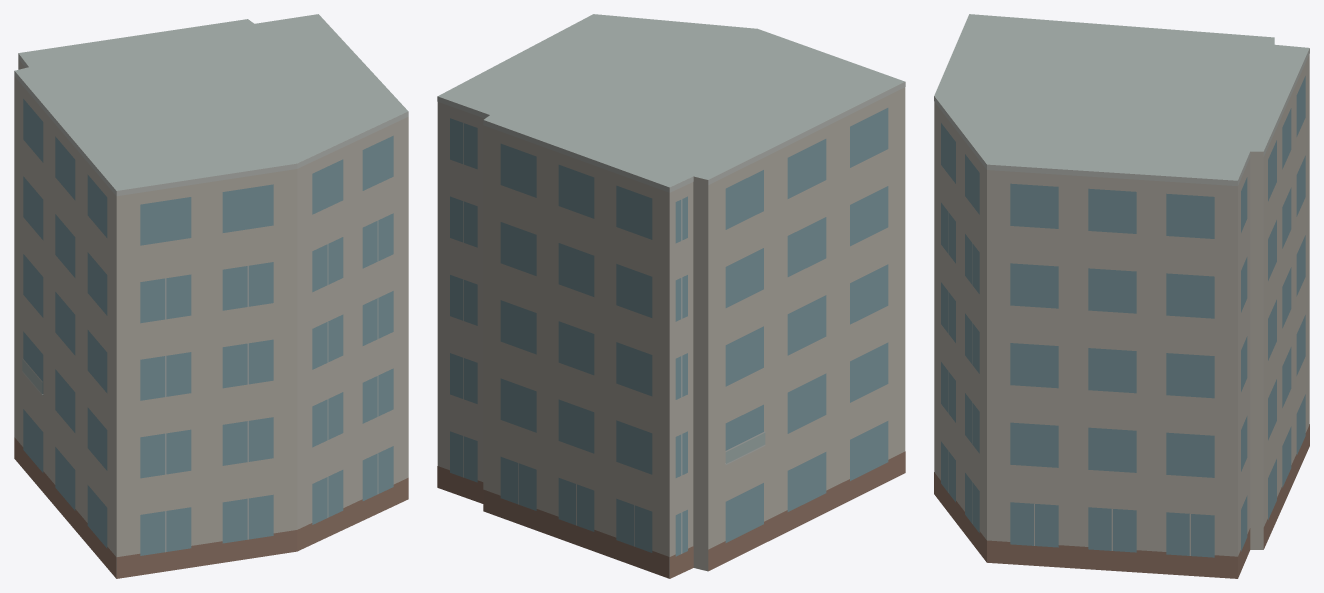
Rendered from survey-upis-32479623.glb.
3 renders of one model, left to right at view 1: azimuth 30°, elevation 25°; view 2: azimuth 150°, elevation 25°; view 3: azimuth 270°, elevation 25°, orthographic. The views are drawn at different scales.
Parts seen in each view (by area): view 1: survey-upis-32479623.tmp; view 2: survey-upis-32479623.tmp; view 3: survey-upis-32479623.tmp.
Part boxes in pixels (x1,y1,x2,y2): survey-upis-32479623.tmp: [14, 14, 408, 578]; survey-upis-32479623.tmp: [437, 14, 905, 578]; survey-upis-32479623.tmp: [934, 14, 1309, 578].
Size of the model in its own units: 16.09 by 17.9 by 15.32.
